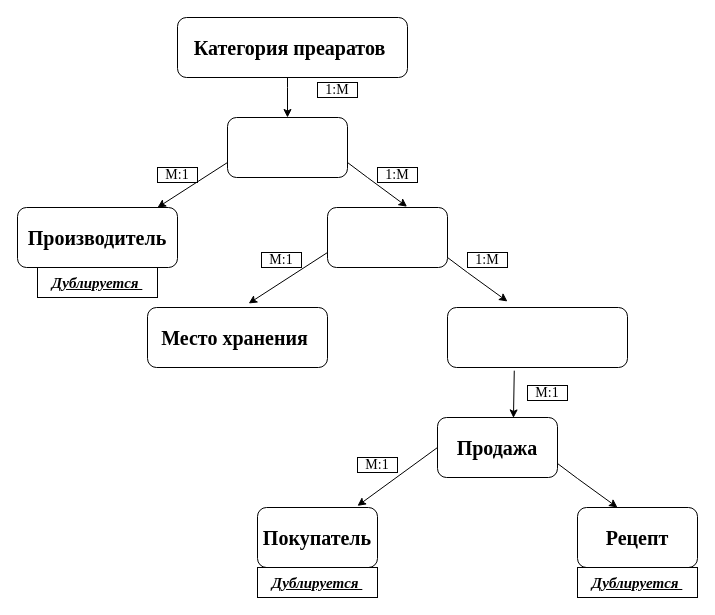
This 715x615 diagram has some shape labels left out. The shapes that lost their labels are listed below. From the top down, each one's centre as x and y in pixels, then its label:
At (287,147): "Препарат".
At (387,237): "Партия".
At (537,337): "Позиция продажи".
